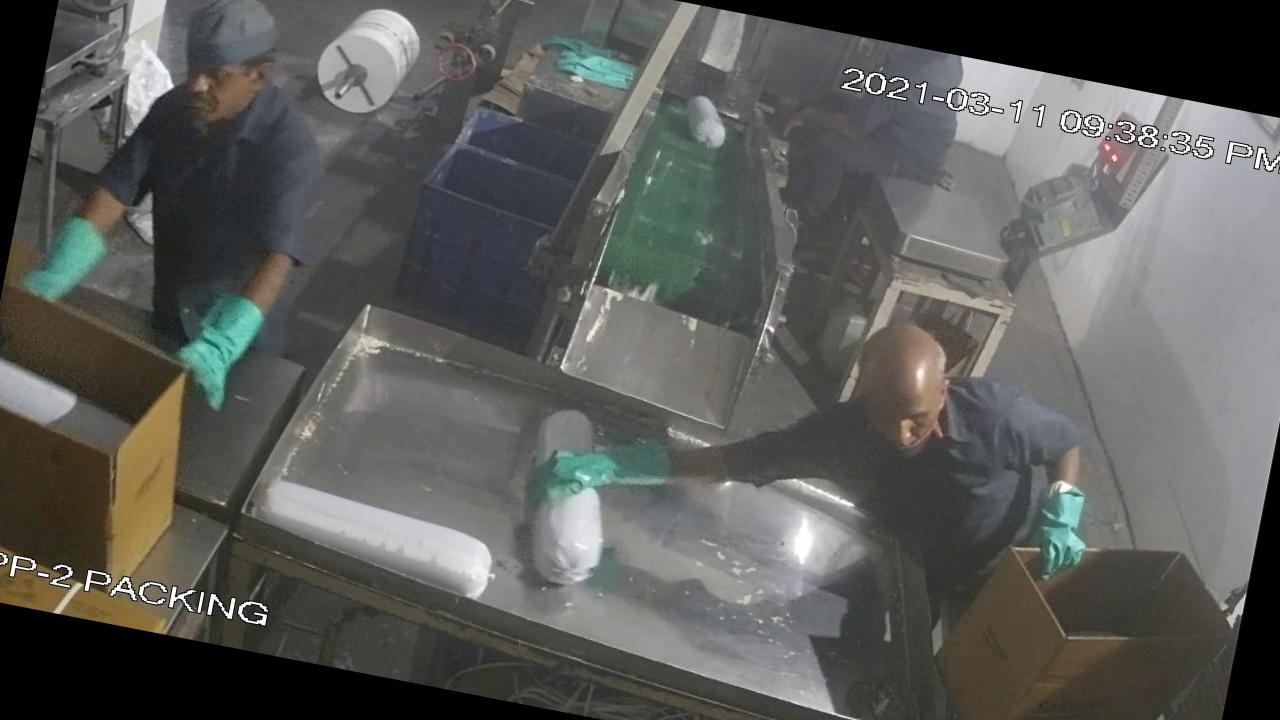Gloves: (500, 376, 677, 548), (167, 262, 272, 424), (18, 200, 125, 340)
